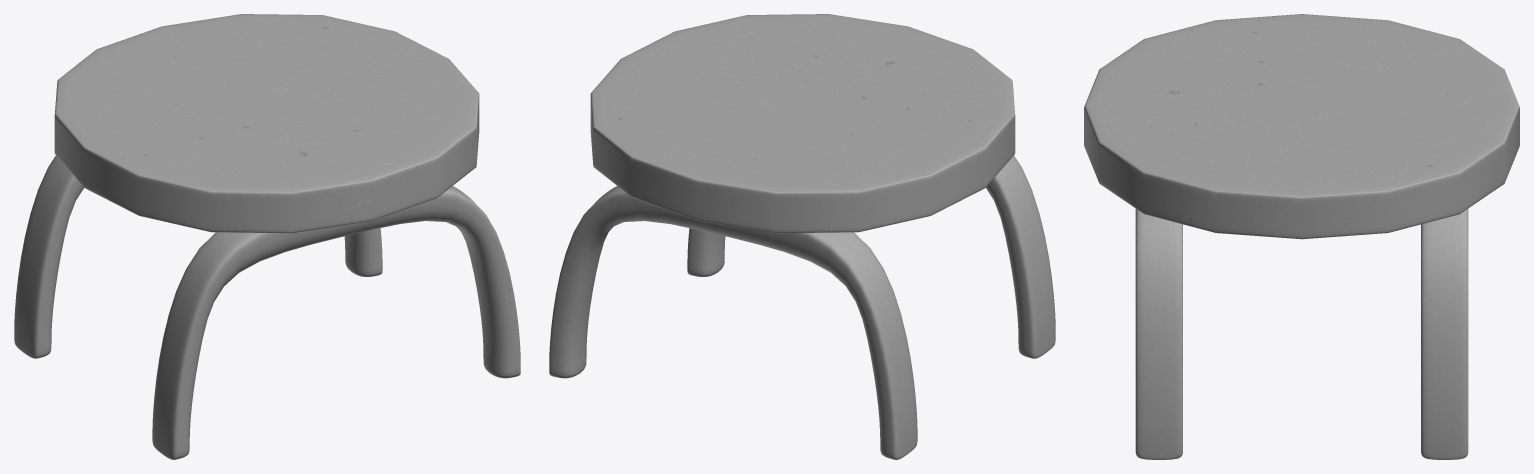
File: mesita.fbx
3 renders of one model, left to right at view 1: azimuth 30°, elevation 25°; view 2: azimuth 150°, elevation 25°; view 3: azimuth 270°, elevation 25°, orthographic. The views are drawn at different scales.
Visible parts, largest first — view 1: mesita; view 2: mesita; view 3: mesita.
Boxes of the visible parts, box(x1,y1,x2,y2) form: mesita: box(14, 14, 520, 459); mesita: box(549, 14, 1055, 459); mesita: box(1084, 14, 1519, 459).
Bounding box in the file's own units: 183 × 124 × 183.
1 material, 1 textured.
